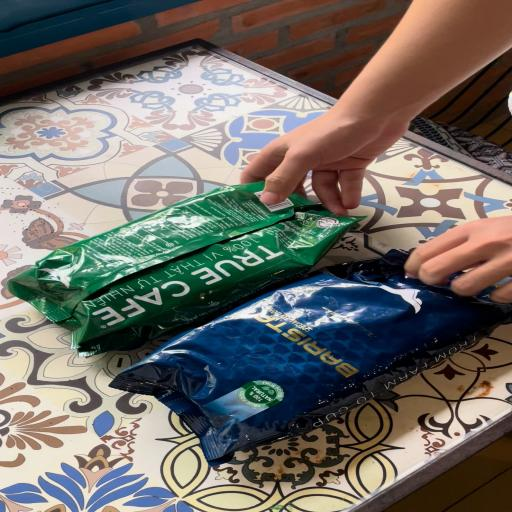cafe_hat: (110, 249, 512, 465)
cafe_xay: (7, 183, 363, 355)
